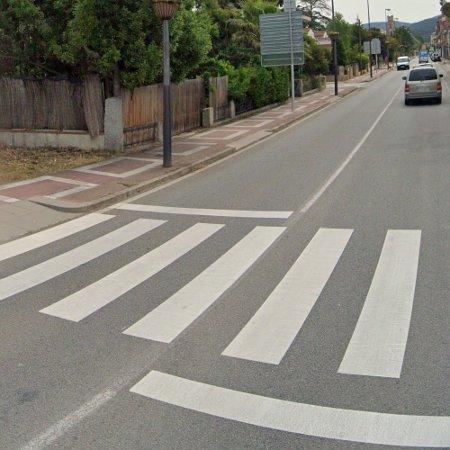crosswalks: (0, 207, 427, 380)
